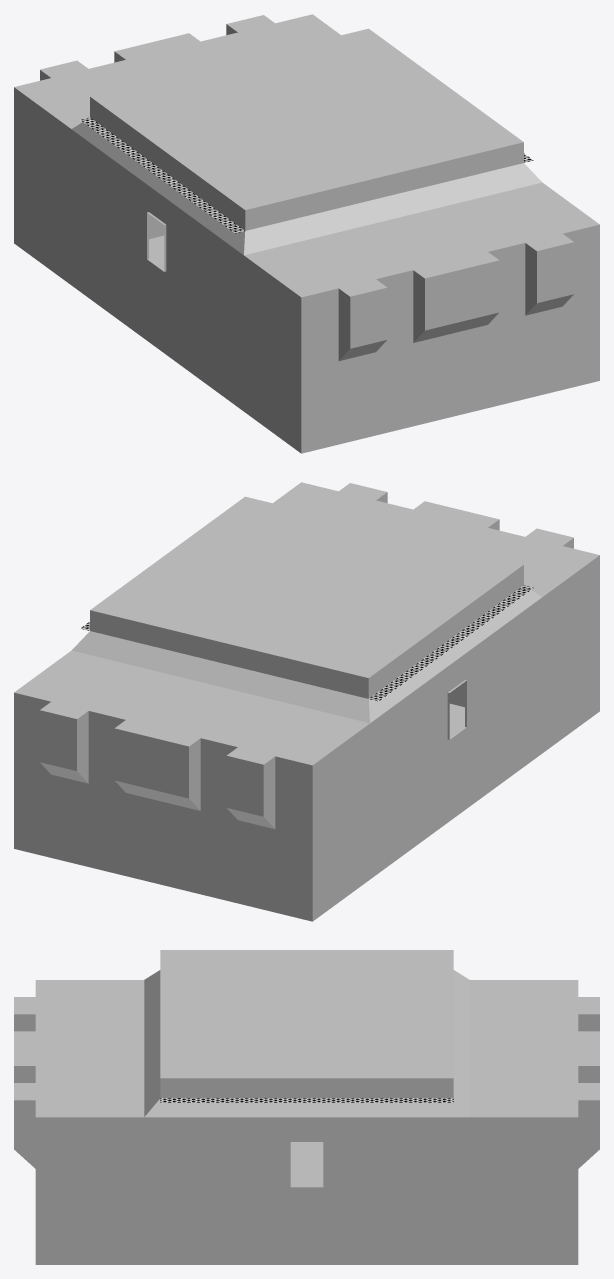
The model's file is Hallway-Room-Type-0.obj.
The picture shows the model from 3 angles, top to bottom: view 1: azimuth 30°, elevation 25°; view 2: azimuth 150°, elevation 25°; view 3: azimuth 270°, elevation 25°; orthographic projection. The views are drawn at different scales.
Parts seen in each view (by area): view 1: Hallway-Room-Type-0; view 2: Hallway-Room-Type-0; view 3: Hallway-Room-Type-0.
Boxes of the visible parts, left/top/right/bottom form: Hallway-Room-Type-0: left=14, top=14, right=599, bottom=453; Hallway-Room-Type-0: left=14, top=482, right=599, bottom=921; Hallway-Room-Type-0: left=14, top=950, right=599, bottom=1264.
Size of the model in its own units: 15.2 by 9.45 by 27.
